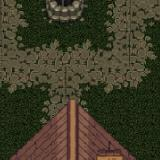Hide: (25, 0, 108, 40)
